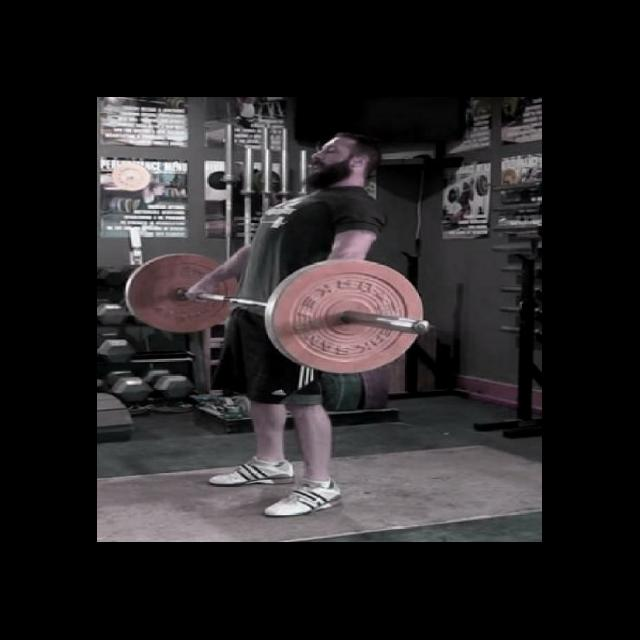barbell: (267, 255, 432, 378)
